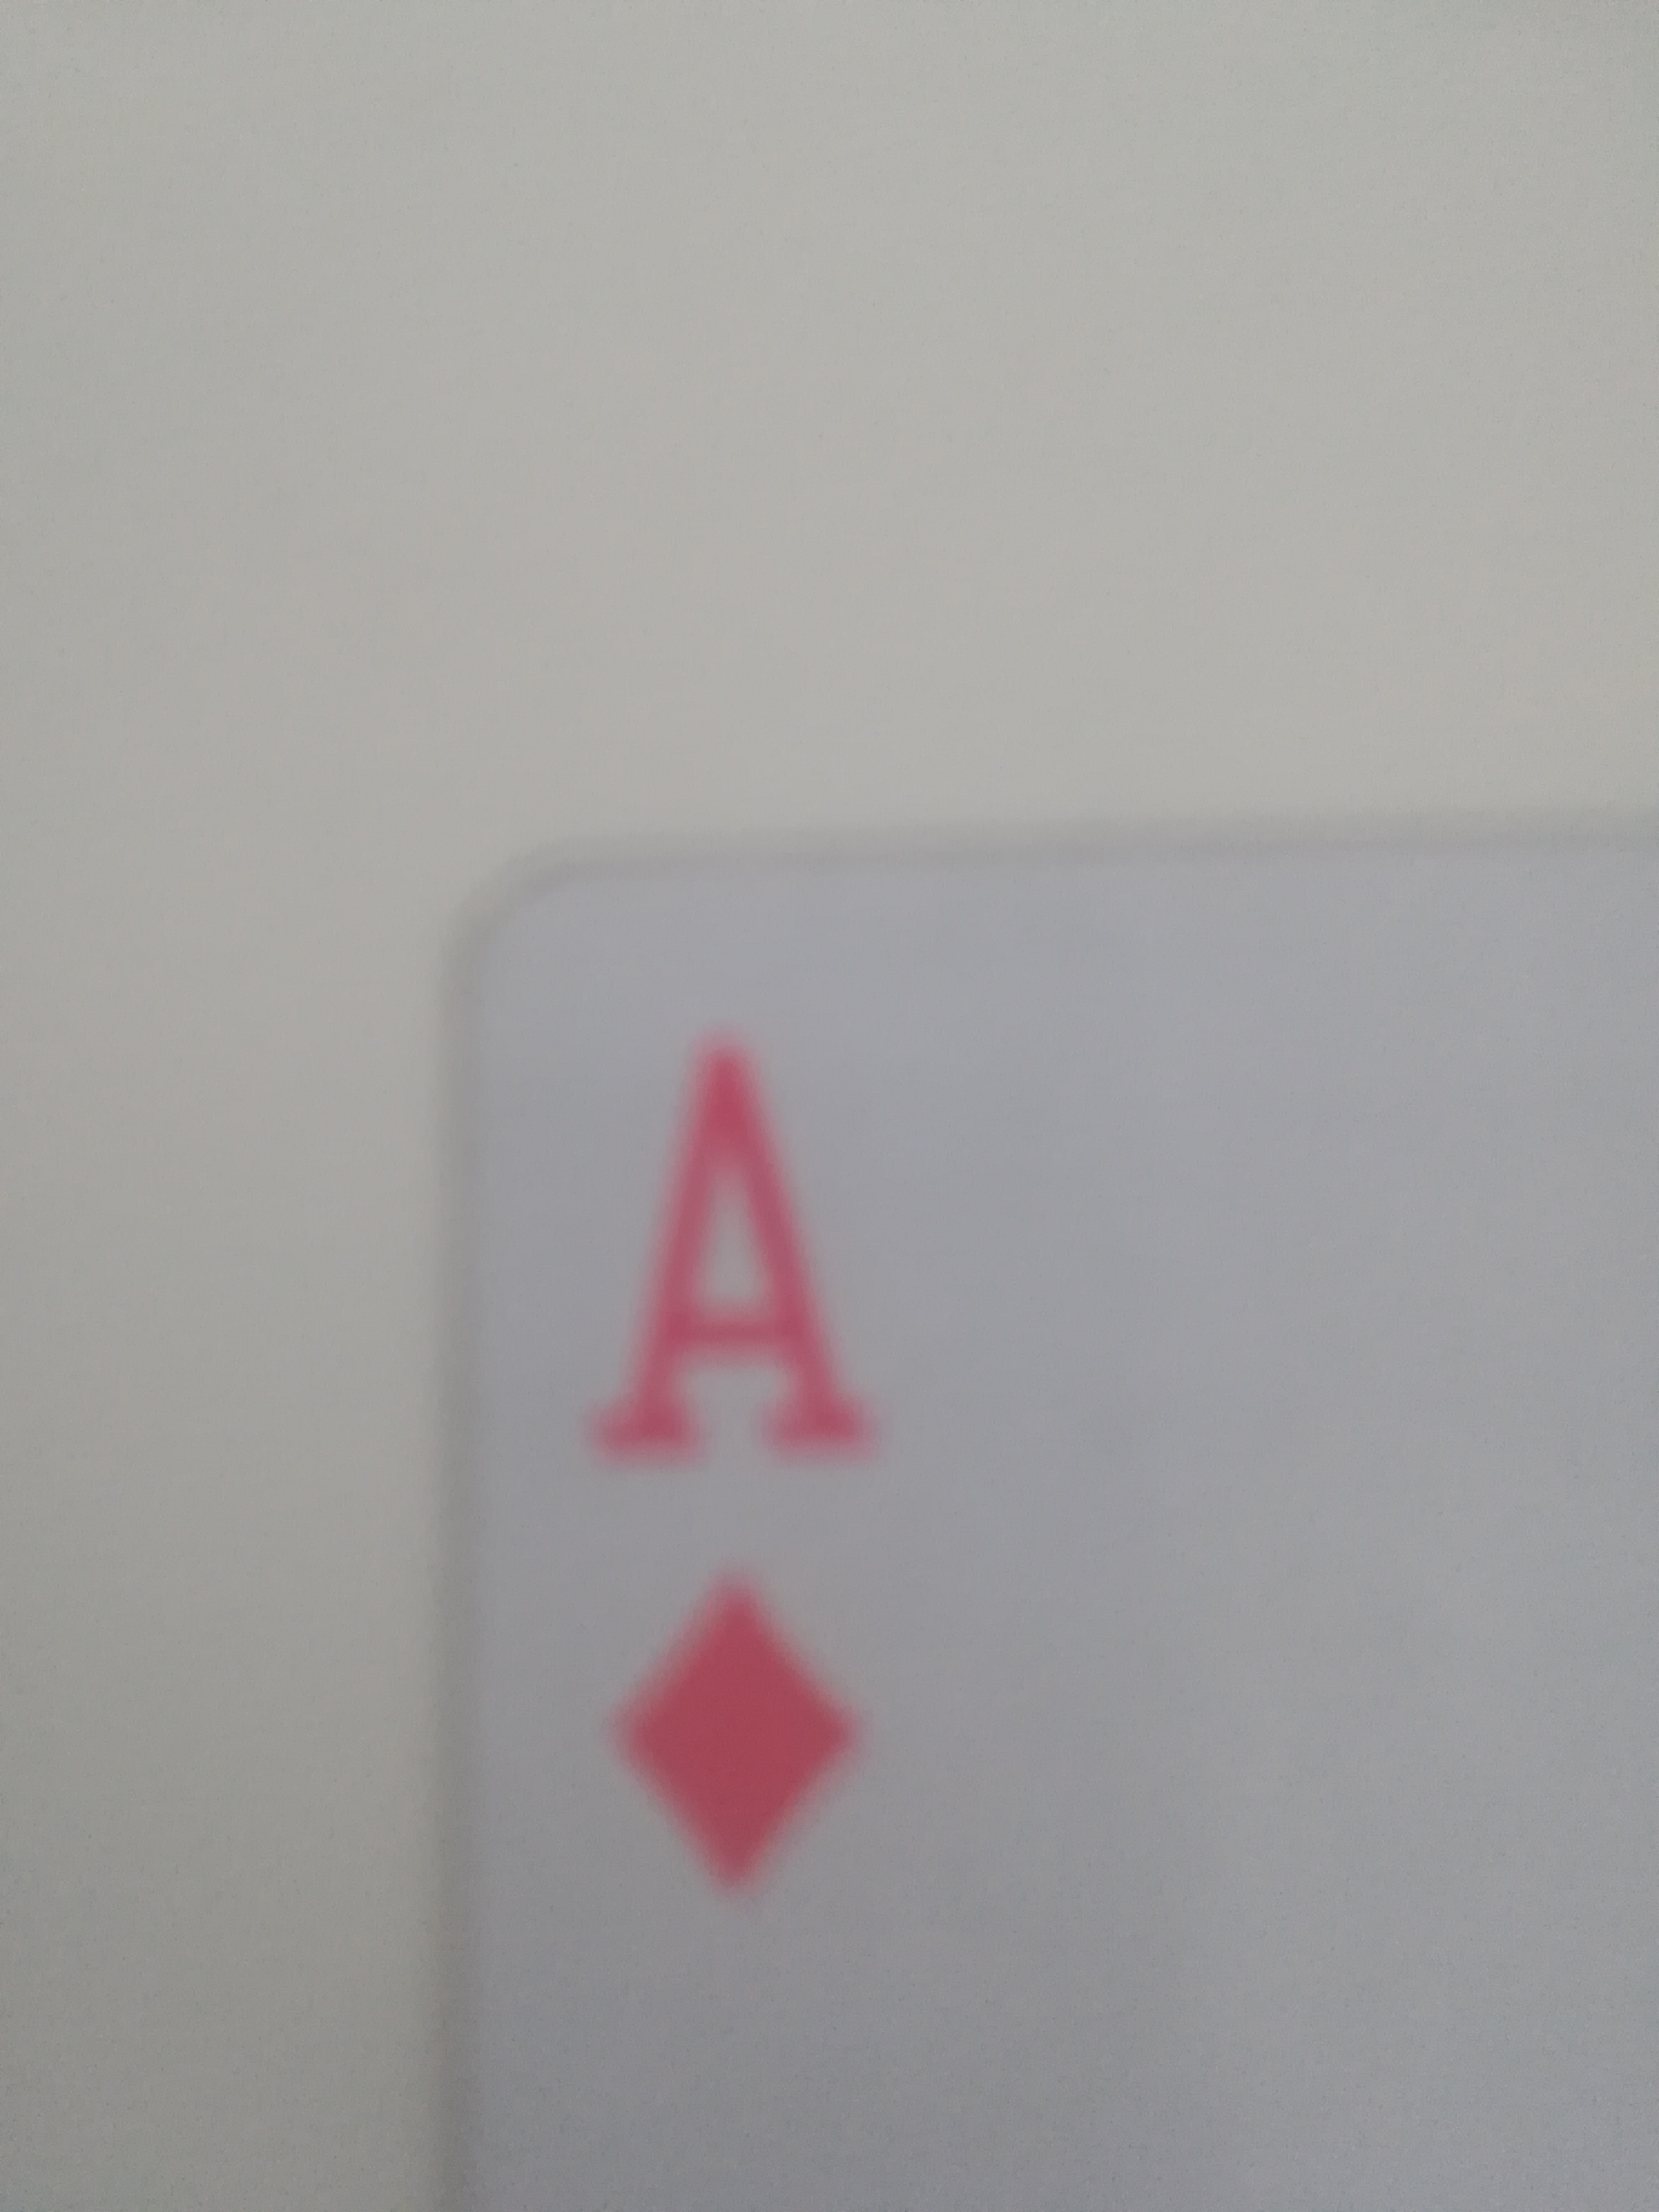AD: (444, 831, 1659, 2203)
